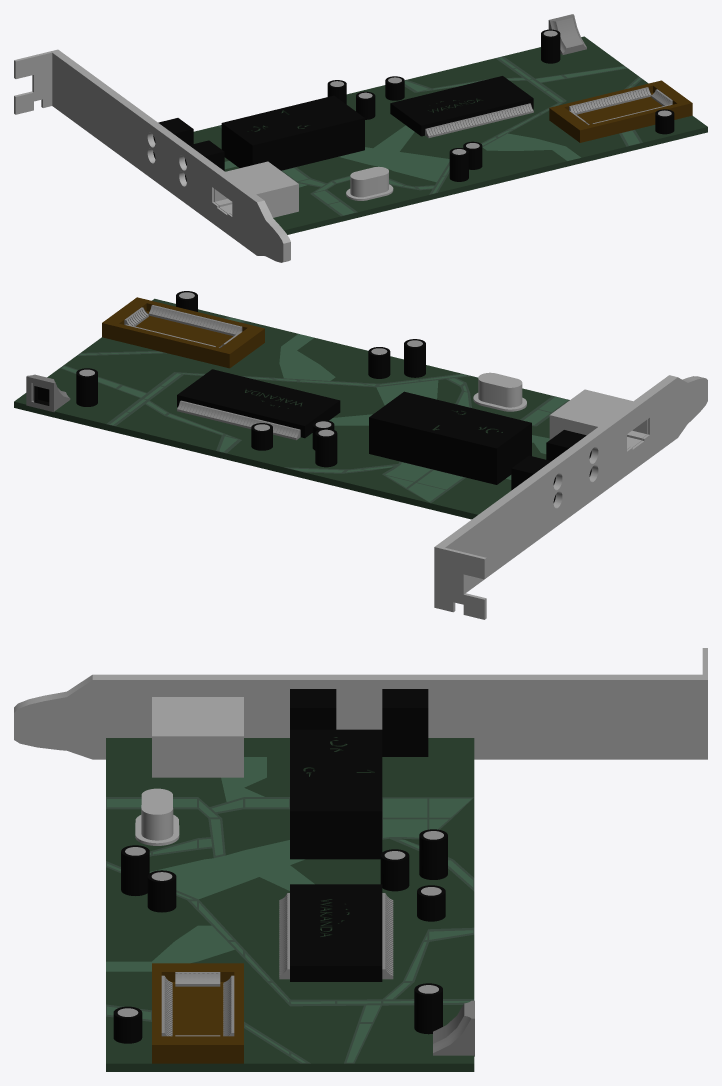
Rendered from NetworkCard.fbx.
3 renders of one model, top to bottom at view 1: azimuth 30°, elevation 25°; view 2: azimuth 150°, elevation 25°; view 3: azimuth 270°, elevation 25°, orthographic. The views are drawn at different scales.
Parts seen in each view (by area): view 1: Cube.074; view 2: Cube.074; view 3: Cube.074.
Part boxes in pixels (x1,y1,x2,y2): Cube.074: (14,14,707,262); Cube.074: (14,291,707,619); Cube.074: (14,648,707,1071).
Size of the model in its own units: 1930 by 200 by 1582.
